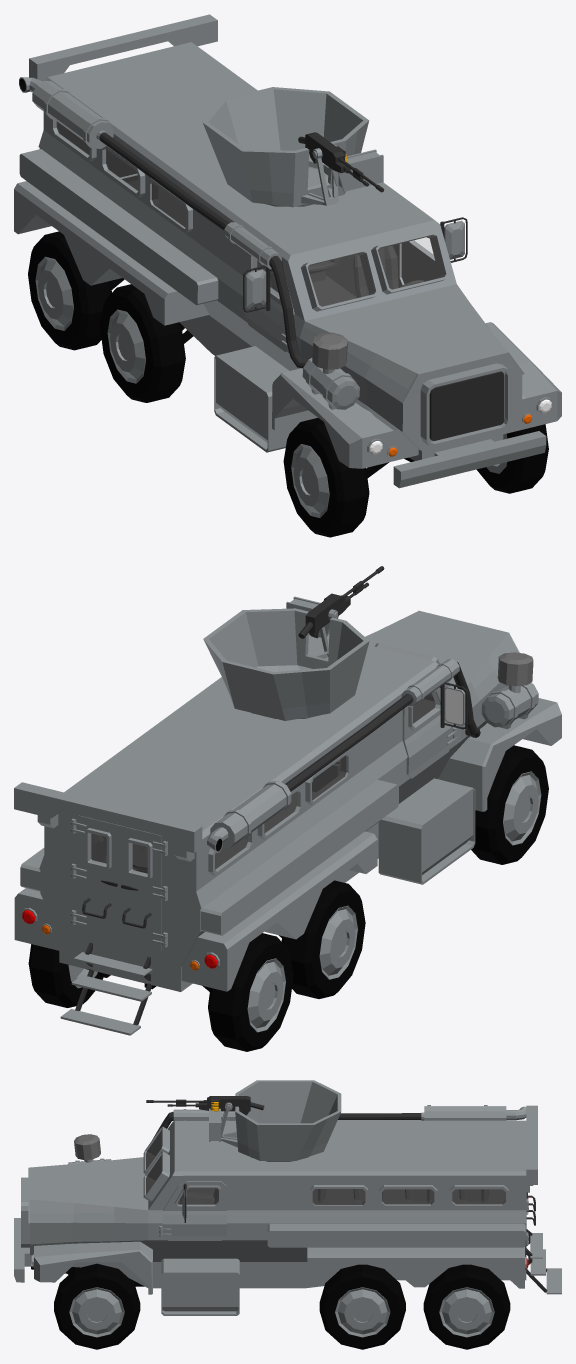
3 renders of one model, top to bottom at view 1: azimuth 30°, elevation 25°; view 2: azimuth 150°, elevation 25°; view 3: azimuth 270°, elevation 25°, orthographic. The views are drawn at different scales.
Parts seen in each view (by area): view 1: Plane, Cube, Cylinder.004, Cylinder.001, Cylinder.002, Plane.003, Cylinder.005, Plane.002, Plane.001, Cube.002, Plane.008, Cylinder; view 2: Plane, Cylinder.004, Cube, Cylinder.005, Cylinder.001, Cylinder.002, Plane.007, Plane.004, Plane.001, Plane.002, Cylinder.006, Cube.002 (+1 smaller); view 3: Plane, Cube, Cylinder.003, Cylinder, Cylinder.006, Cylinder.004, Plane.002, Plane.008, Plane.003, Cube.002.
Part boxes in pixels (x1=…): Plane: x1=14, y1=42, x2=561, y2=488; Cube: x1=202, y1=87, x2=369, y2=207; Cylinder.004: x1=19, y1=14, x2=359, y2=409; Cylinder.001: x1=100, y1=284, x2=185, y2=402; Cylinder.002: x1=283, y1=418, x2=369, y2=537; Plane.003: x1=57, y1=122, x2=444, y2=305; Cylinder.005: x1=28, y1=231, x2=111, y2=350; Plane.002: x1=56, y1=121, x2=445, y2=306; Plane.001: x1=243, y1=254, x2=294, y2=351; Cube.002: x1=298, y1=132, x2=383, y2=192; Plane.008: x1=401, y1=217, x2=467, y2=284; Cylinder: x1=476, y1=424, x2=548, y2=493; Plane: x1=14, y1=610, x2=561, y2=1035; Cylinder.004: x1=14, y1=652, x2=538, y2=861; Cube: x1=203, y1=605, x2=369, y2=720; Cylinder.005: x1=208, y1=933, x2=293, y2=1051; Cylinder.001: x1=281, y1=880, x2=365, y2=998; Cylinder.002: x1=471, y1=745, x2=548, y2=864; Plane.007: x1=120, y1=825, x2=166, y2=950; Plane.004: x1=71, y1=815, x2=119, y2=940; Plane.001: x1=402, y1=682, x2=467, y2=778; Plane.002: x1=91, y1=693, x2=435, y2=873; Cylinder.006: x1=28, y1=944, x2=103, y2=1007; Cube.002: x1=286, y1=566, x2=384, y2=638; Plane: x1=14, y1=1120, x2=561, y2=1315; Cube: x1=221, y1=1080, x2=341, y2=1161; Cylinder.003: x1=319, y1=1264, x2=405, y2=1349; Cylinder: x1=54, y1=1263, x2=140, y2=1349; Cylinder.006: x1=423, y1=1264, x2=510, y2=1349; Cylinder.004: x1=68, y1=1105, x2=537, y2=1185; Plane.002: x1=146, y1=1130, x2=505, y2=1204; Plane.008: x1=159, y1=1181, x2=226, y2=1240; Plane.003: x1=146, y1=1132, x2=505, y2=1204; Cube.002: x1=146, y1=1096, x2=264, y2=1141.
Size of the model in its own units: 253 by 323 by 741.
